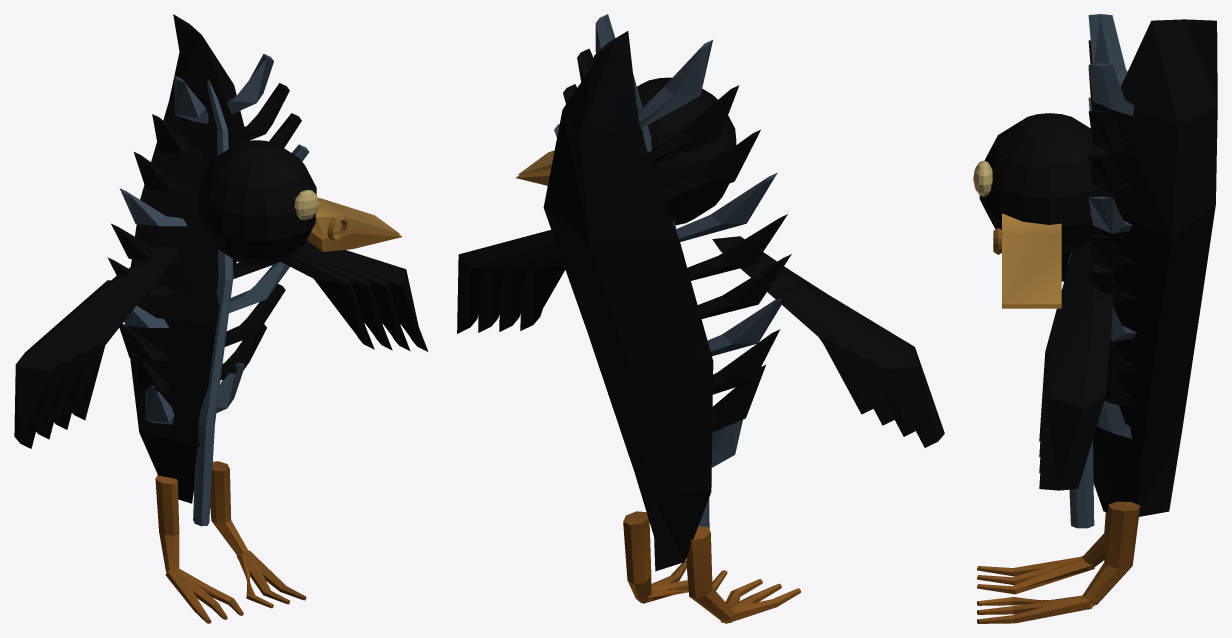
File: raven_quill.fbx
3 views of the same model, side by side, from view 1: azimuth 30°, elevation 25°; view 2: azimuth 150°, elevation 25°; view 3: azimuth 270°, elevation 25° (orthographic). The views are drawn at different scales.
Visible parts, largest first — view 1: raven_quill; view 2: raven_quill; view 3: raven_quill.
Part boxes in pixels (bbox=[...]): raven_quill: bbox=[14, 14, 428, 623]; raven_quill: bbox=[457, 14, 944, 623]; raven_quill: bbox=[973, 14, 1217, 623].
Bounding box in the file's own units: 5.2 × 6.4 × 2.4.
